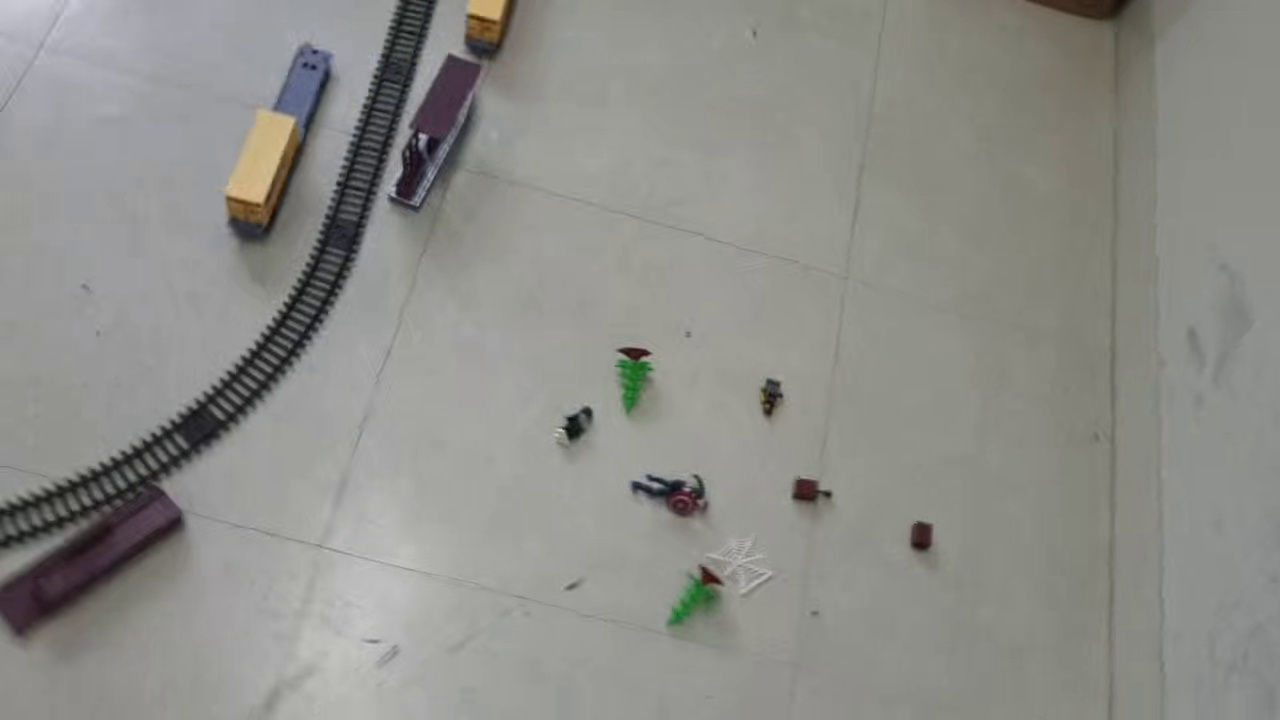box: (789, 474, 835, 508), (908, 518, 935, 551)
people: (625, 470, 712, 518), (553, 406, 596, 448), (756, 375, 786, 418)
tree: (659, 563, 727, 630), (606, 345, 654, 419)
web: (700, 531, 777, 595)
